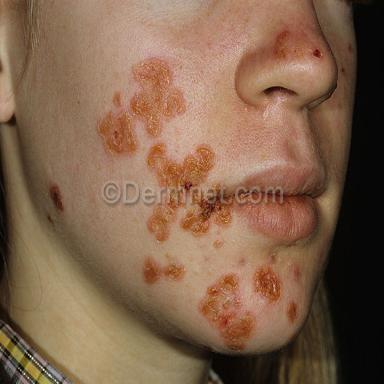Impetigo: (199, 274, 256, 351), (130, 58, 186, 136), (147, 143, 215, 189), (98, 92, 137, 154), (181, 199, 232, 236), (252, 254, 282, 305), (143, 258, 186, 284), (147, 204, 175, 242), (49, 184, 64, 211), (286, 302, 299, 324)
